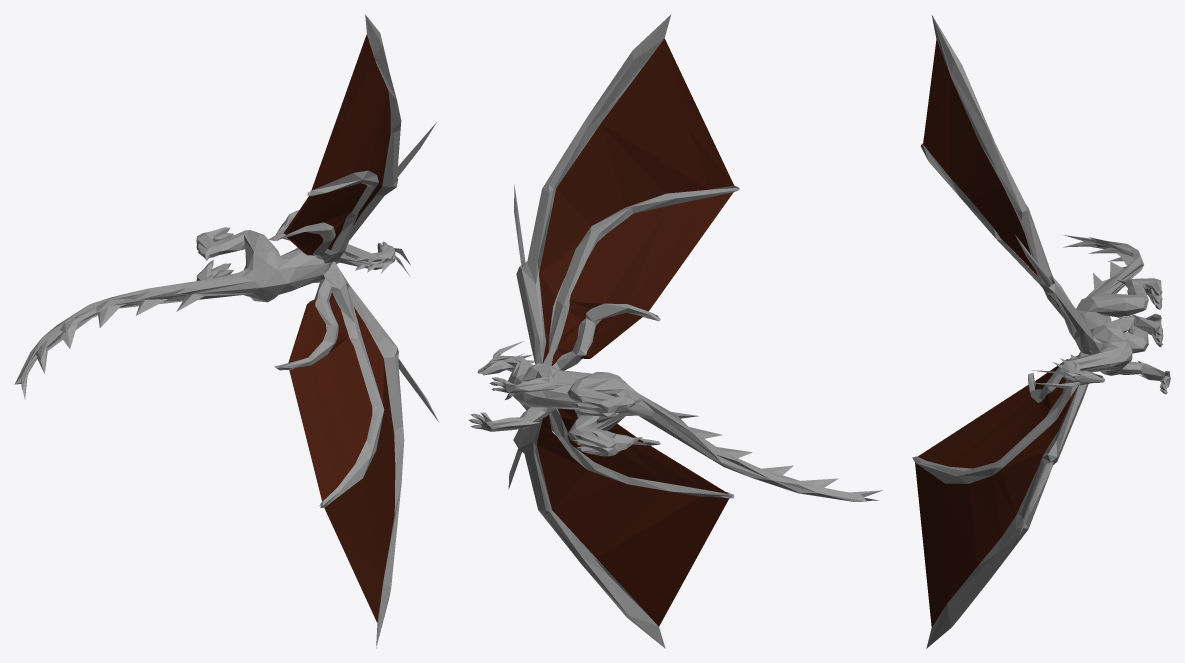
File: Dragon_2.5_For_Animations_000028.obj
The picture shows the model from 3 angles, left to right: view 1: azimuth 30°, elevation 25°; view 2: azimuth 150°, elevation 25°; view 3: azimuth 270°, elevation 25°; orthographic projection.
Parts seen in each view (by area): view 1: Cube_Cube.004; view 2: Cube_Cube.004; view 3: Cube_Cube.004.
Part boxes in pixels (left/top/right/bottom): Cube_Cube.004: left=14, top=14, right=438, bottom=648; Cube_Cube.004: left=468, top=14, right=882, bottom=648; Cube_Cube.004: left=912, top=14, right=1170, bottom=648.
Size of the model in its own units: 95.25 by 146 by 54.34.
